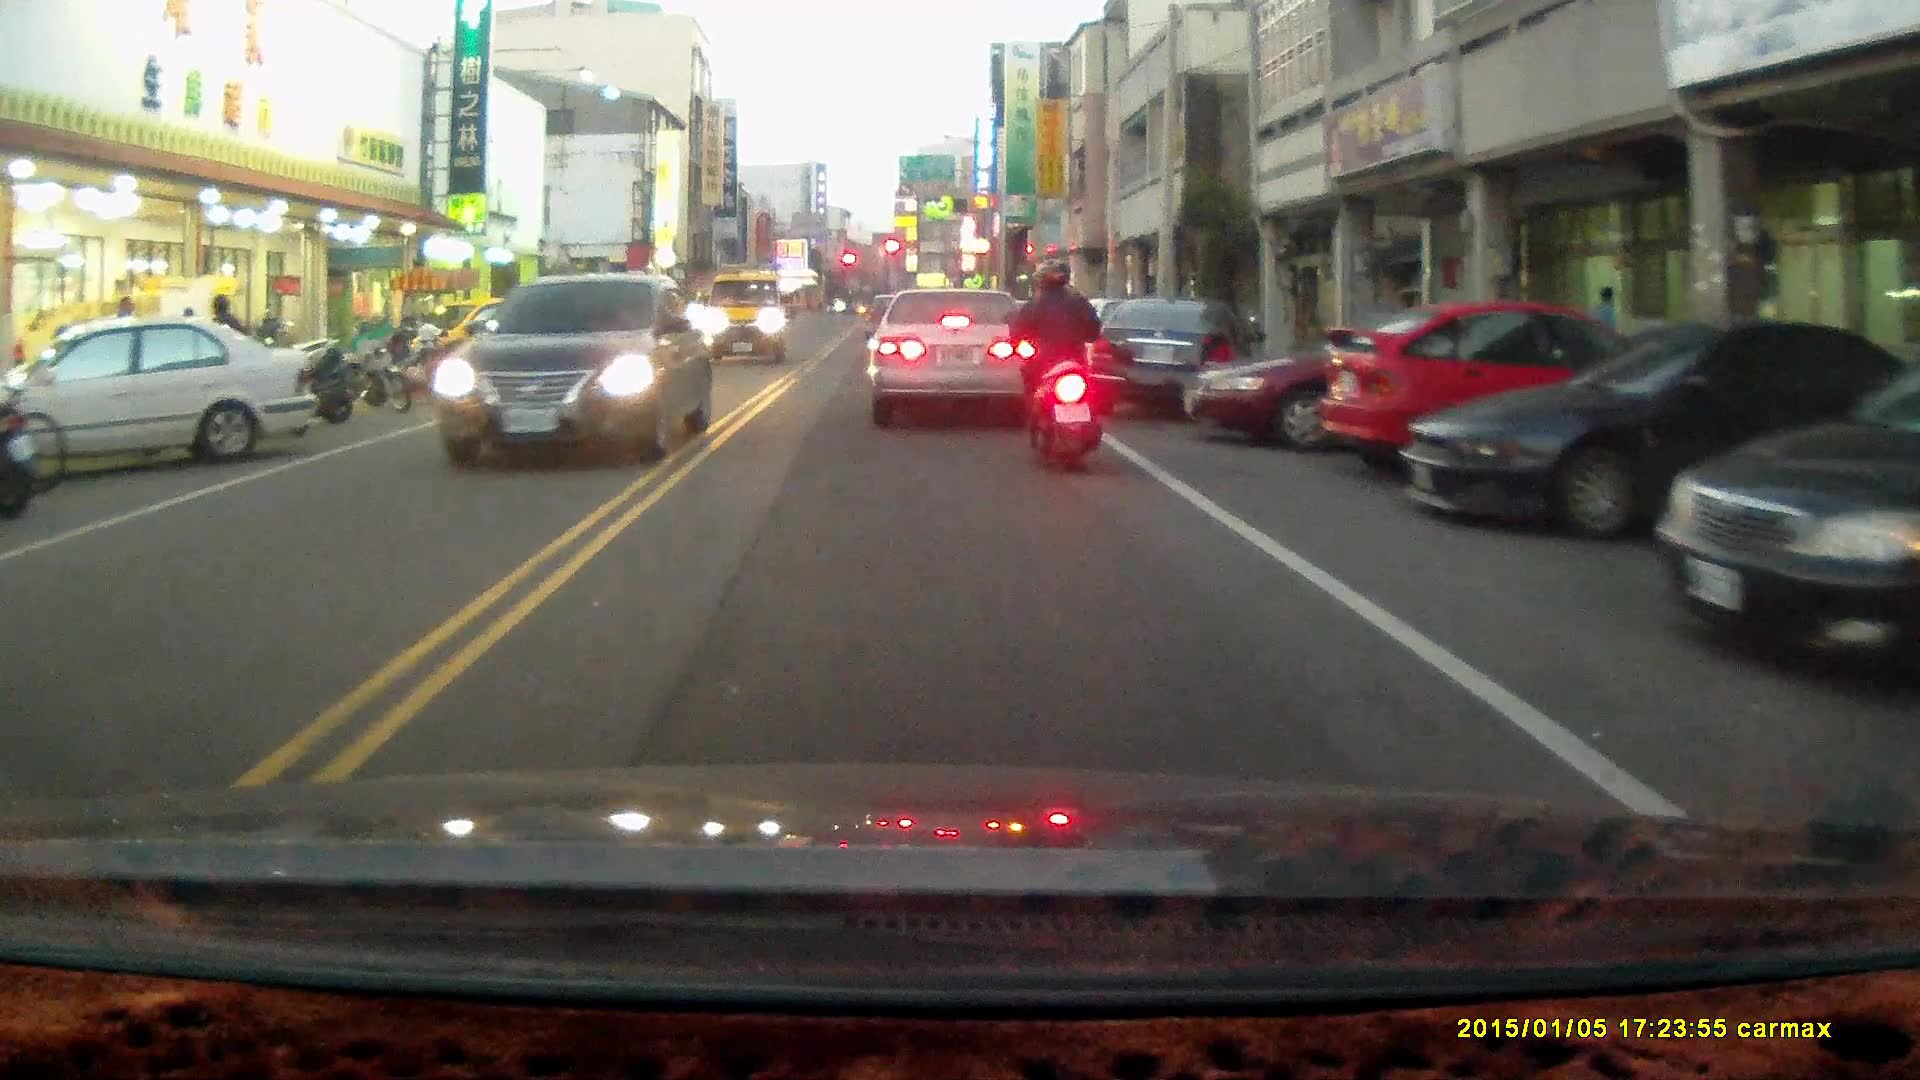rider: (1002, 256, 1111, 474)
vehicle: (1401, 316, 1876, 543), (1645, 340, 1920, 679), (1316, 298, 1701, 480), (432, 270, 713, 468), (1178, 319, 1587, 454), (1, 319, 321, 474), (866, 286, 1041, 420), (1082, 294, 1239, 420), (701, 271, 788, 365)
